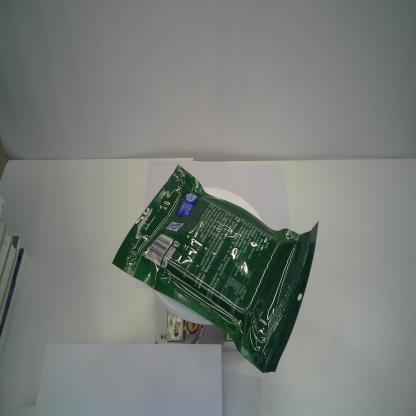Dried Food: (109, 164, 320, 374)
